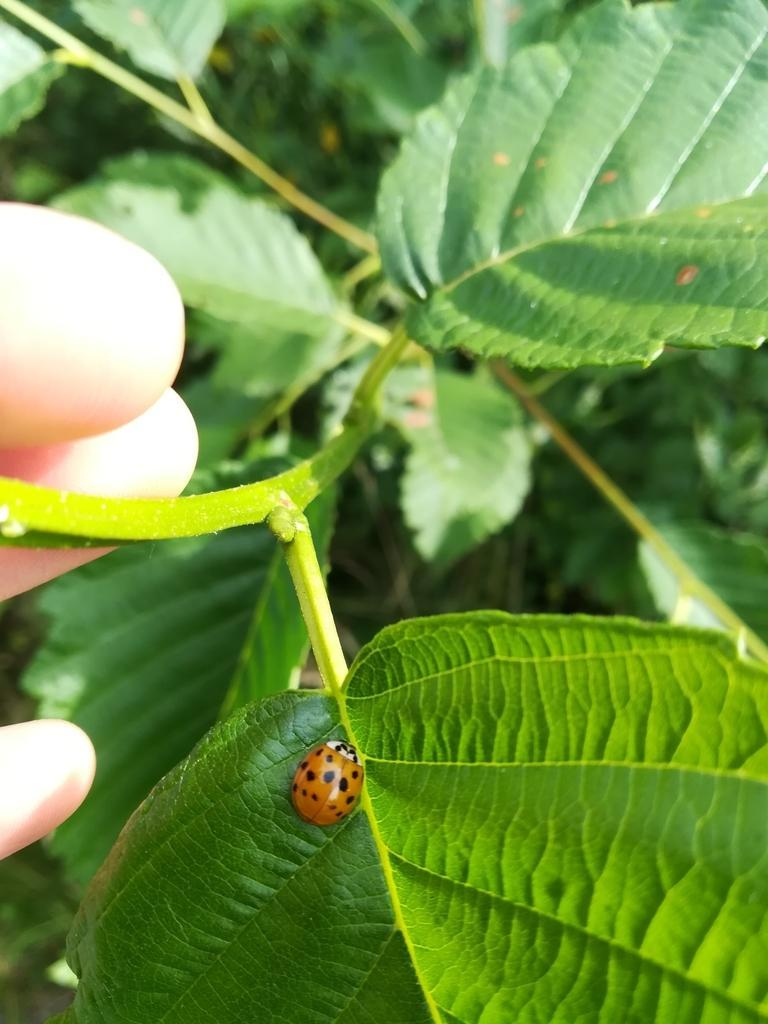ladybug: (290, 739, 368, 830)
